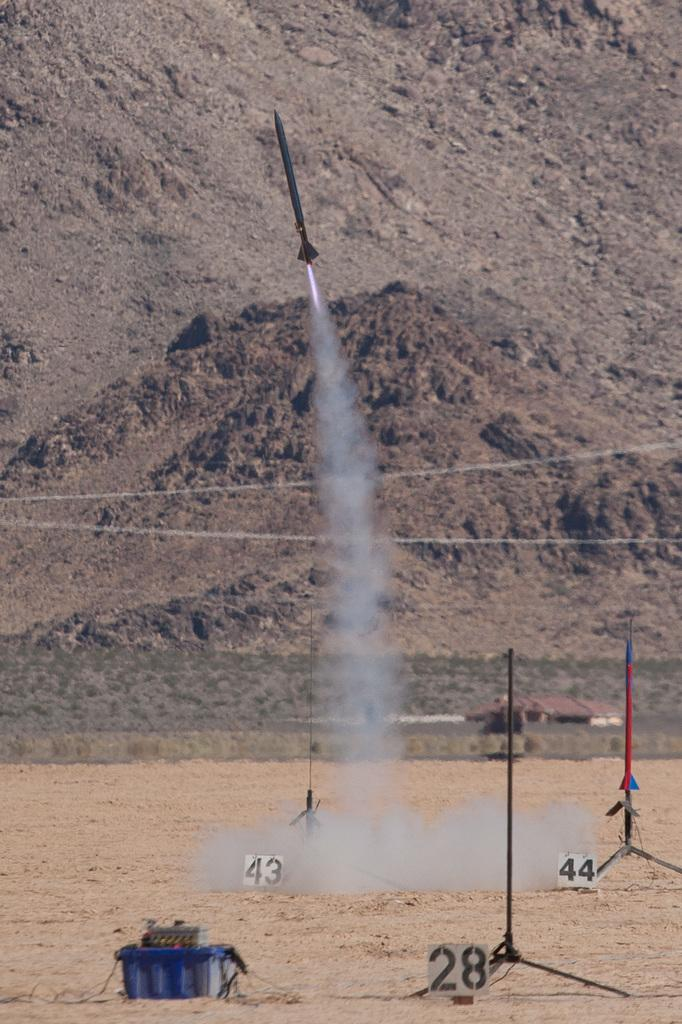Missile: (271, 105, 319, 266)
